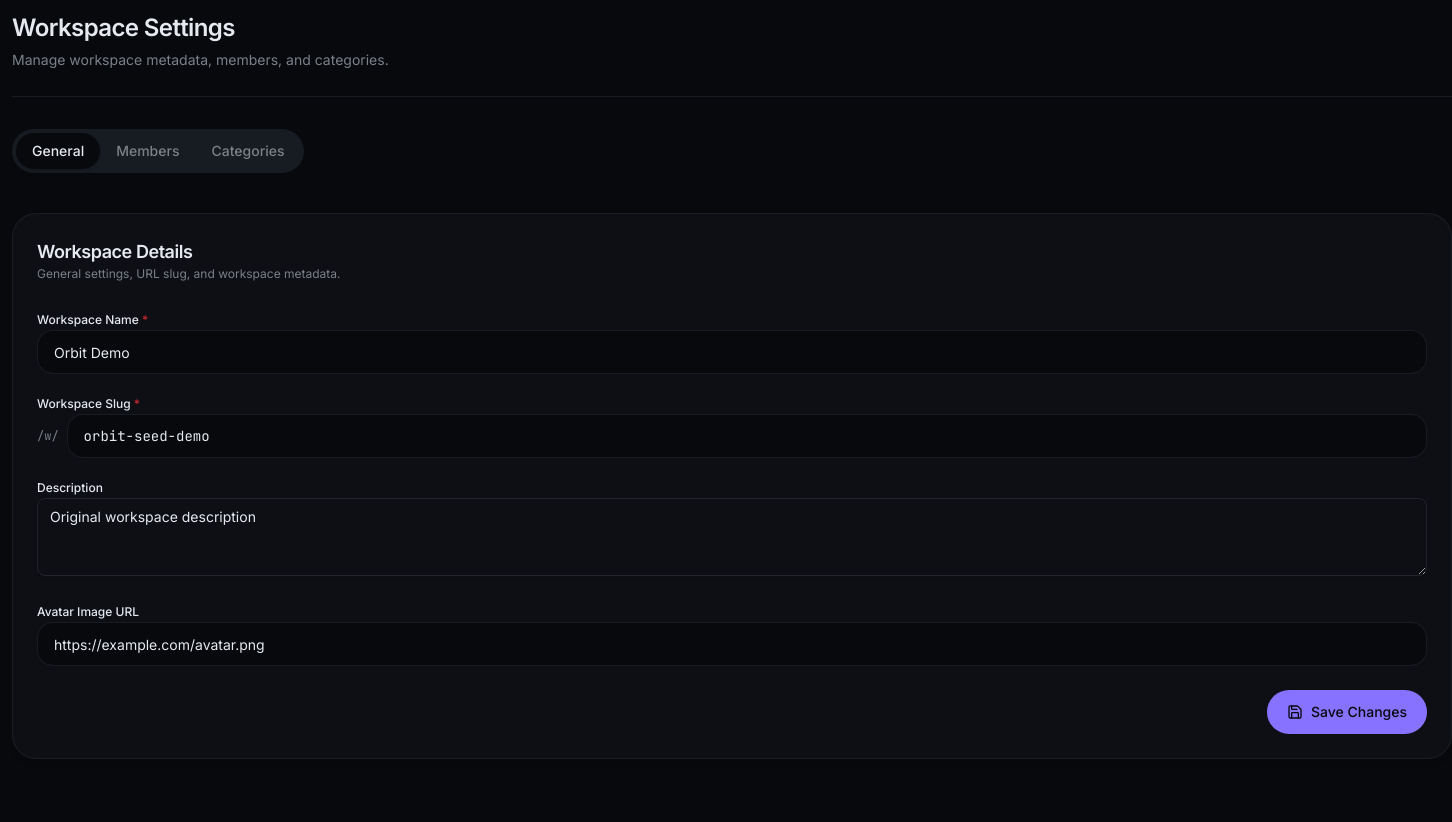
Test: WorkspaceSettingsPage & WorkspaceDetailsForm Component Tests › Case 4: 409 Slug Collision from backend displays inline error message under slug input
The image size is (1452, 822).
Type "taken-slug" into the field labelled "Workspace Slug *".
click(747, 436); type("taken-slug")  # box [67,414,1427,458]
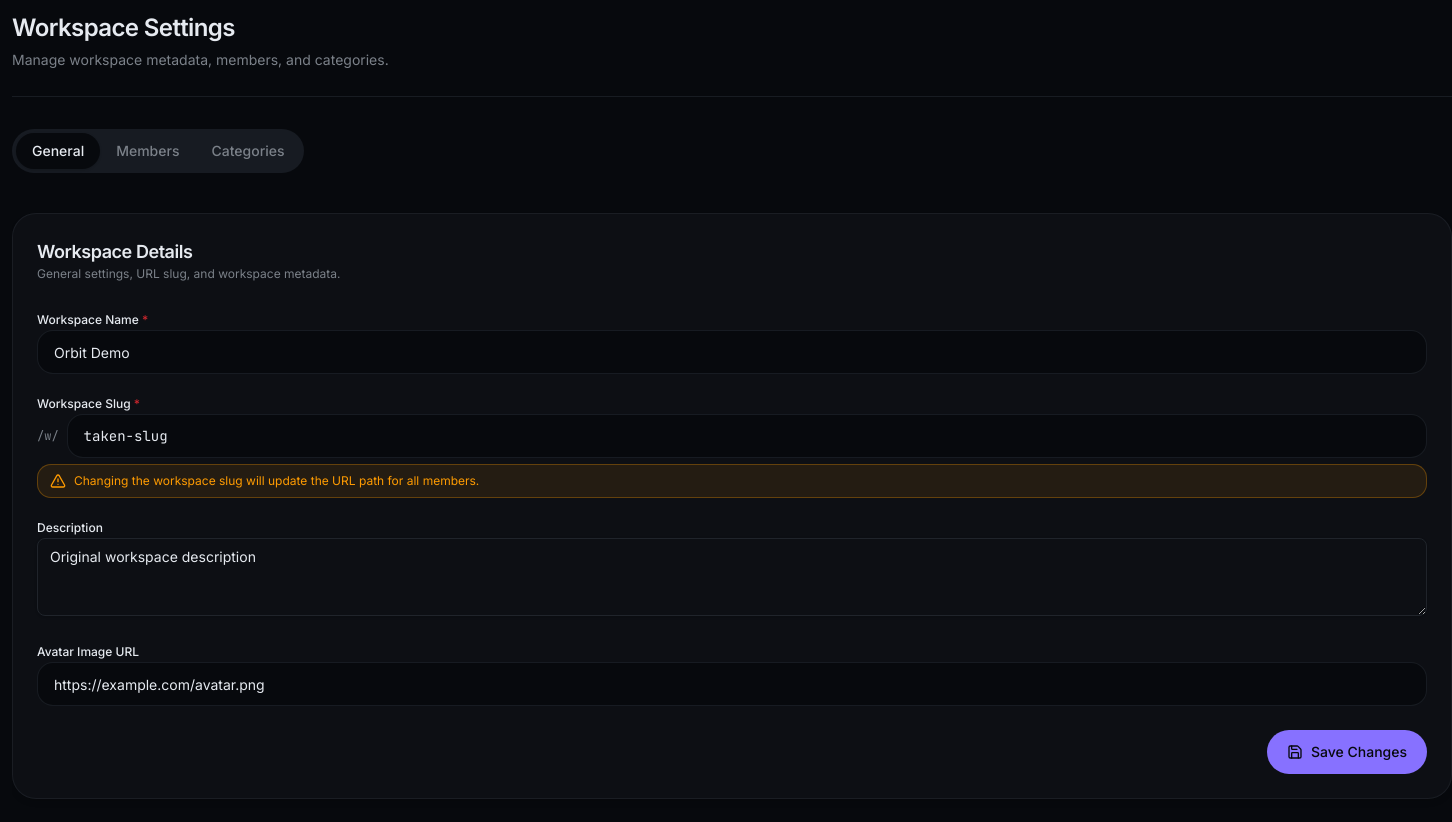
Click the button "Save Changes".
click(1347, 752)  # box [1267,730,1427,774]
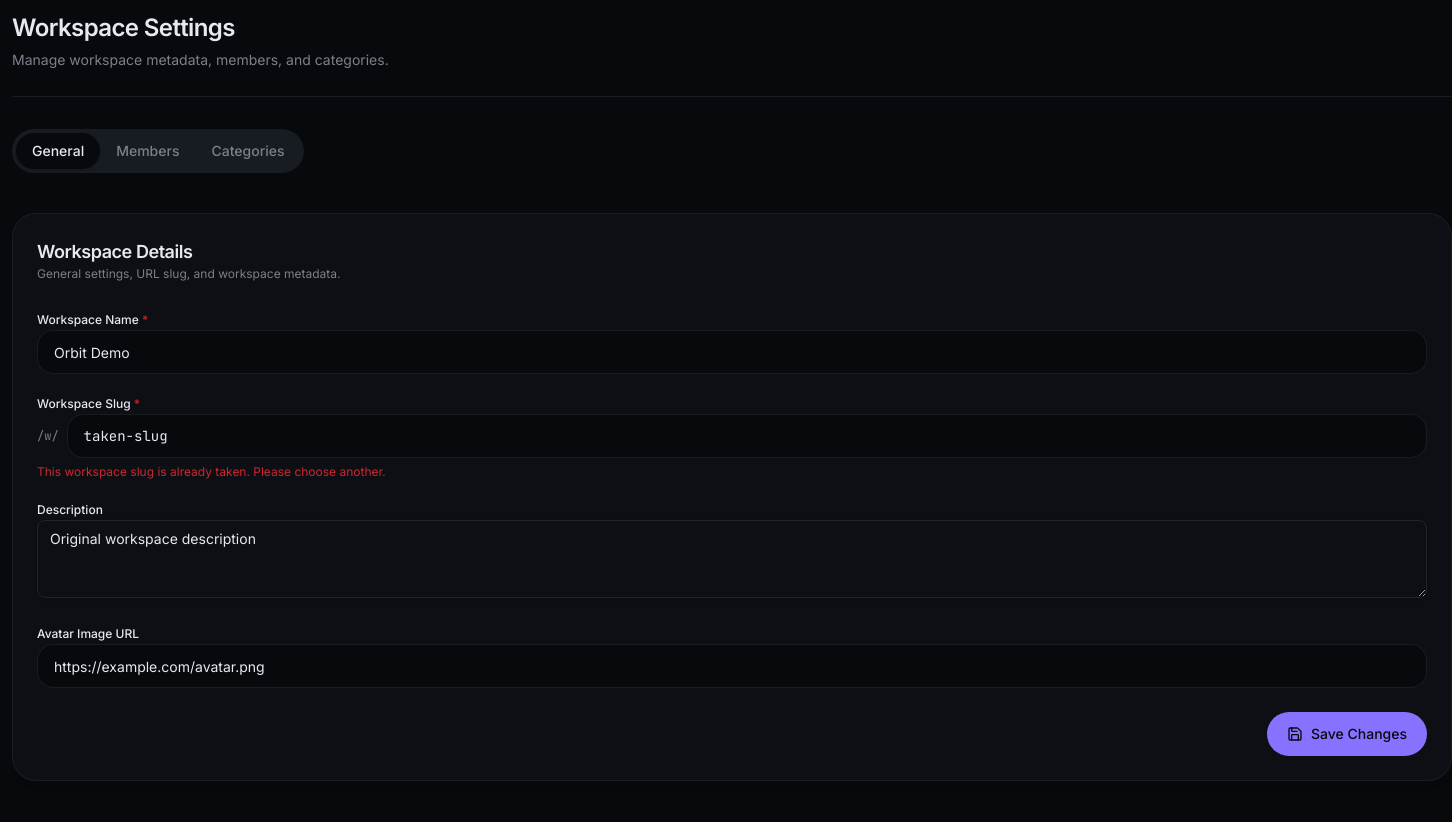
Expected: the text "This workspace slug is already taken. Please choose another." is shown, [37,464,386,479]
